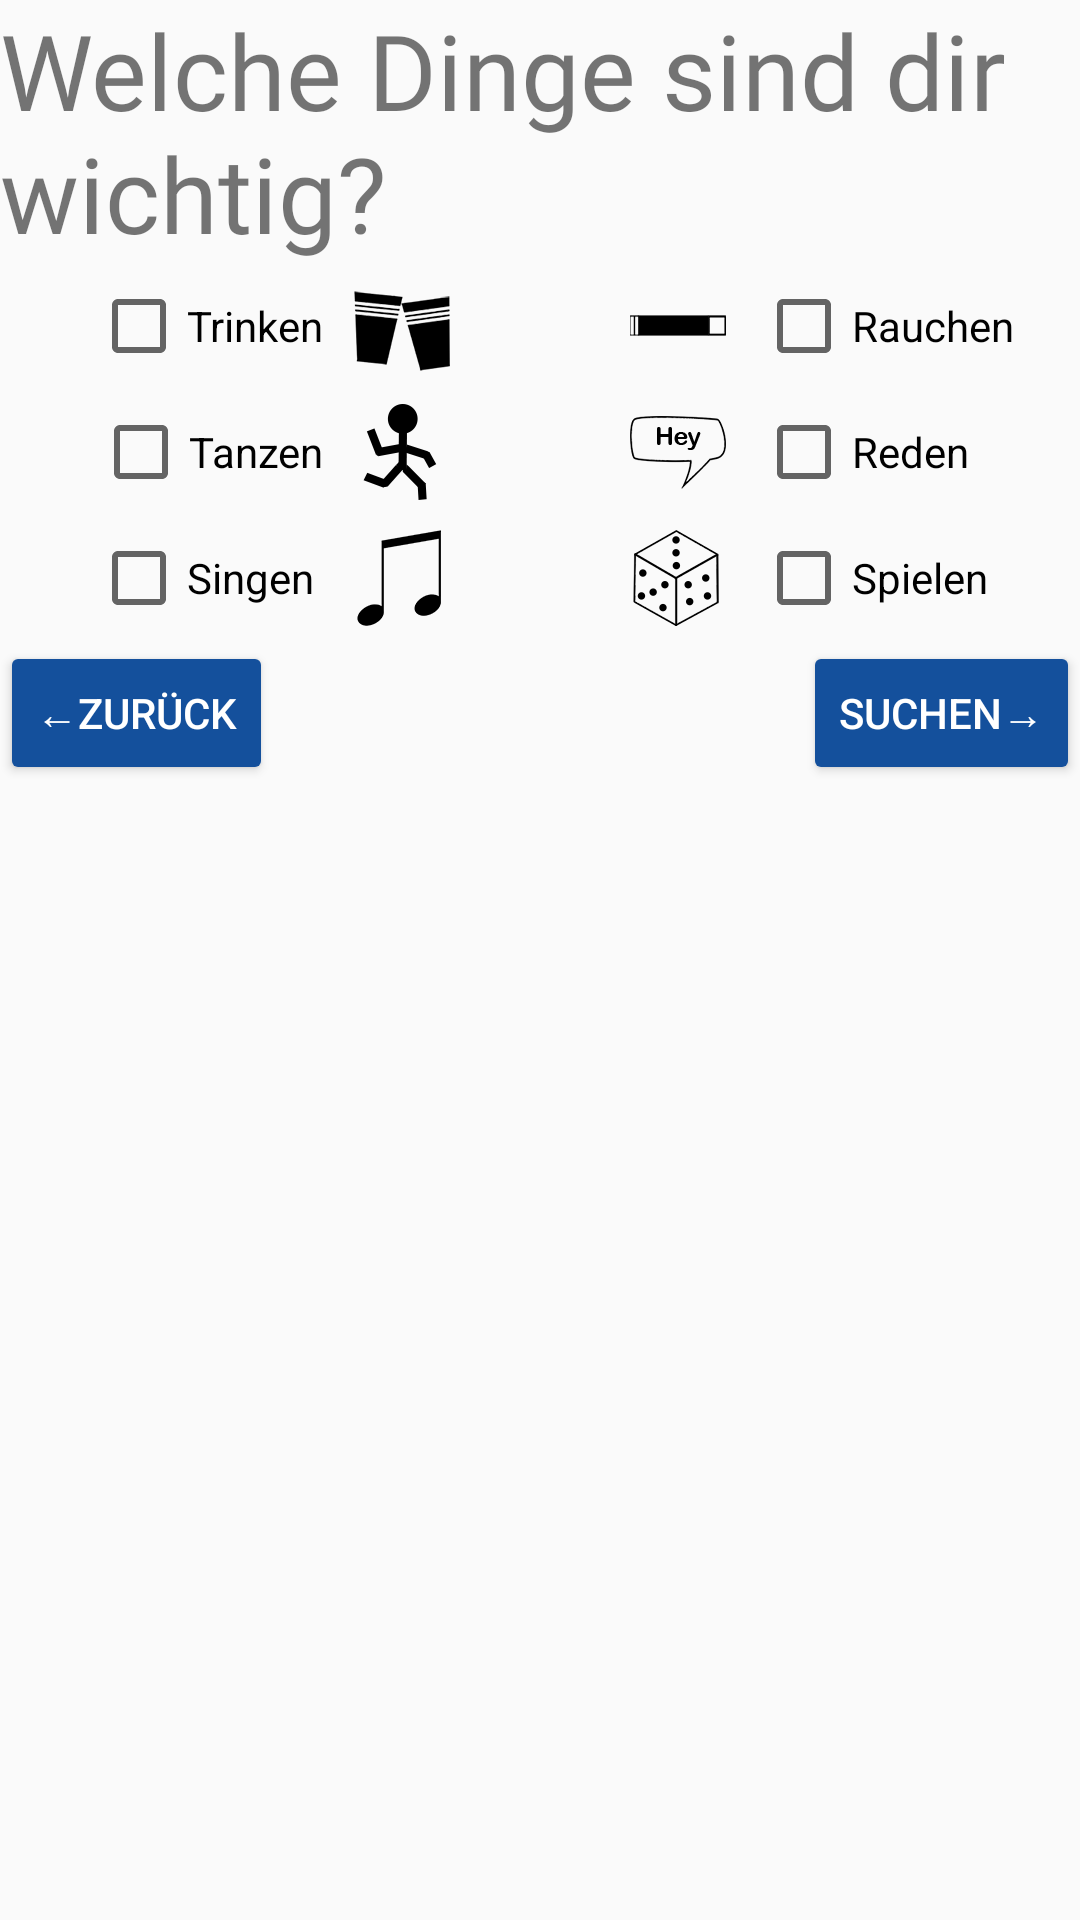

Icons on this 1080w x 1920h Android screen, each with the point to tap as [x,y]:
dance without padding: [399,452]
drink without padding: [402,331]
play without padding: [676,578]
sing without padding: [399,578]
smoking without padding: [678,325]
talk without padding: [678,452]
